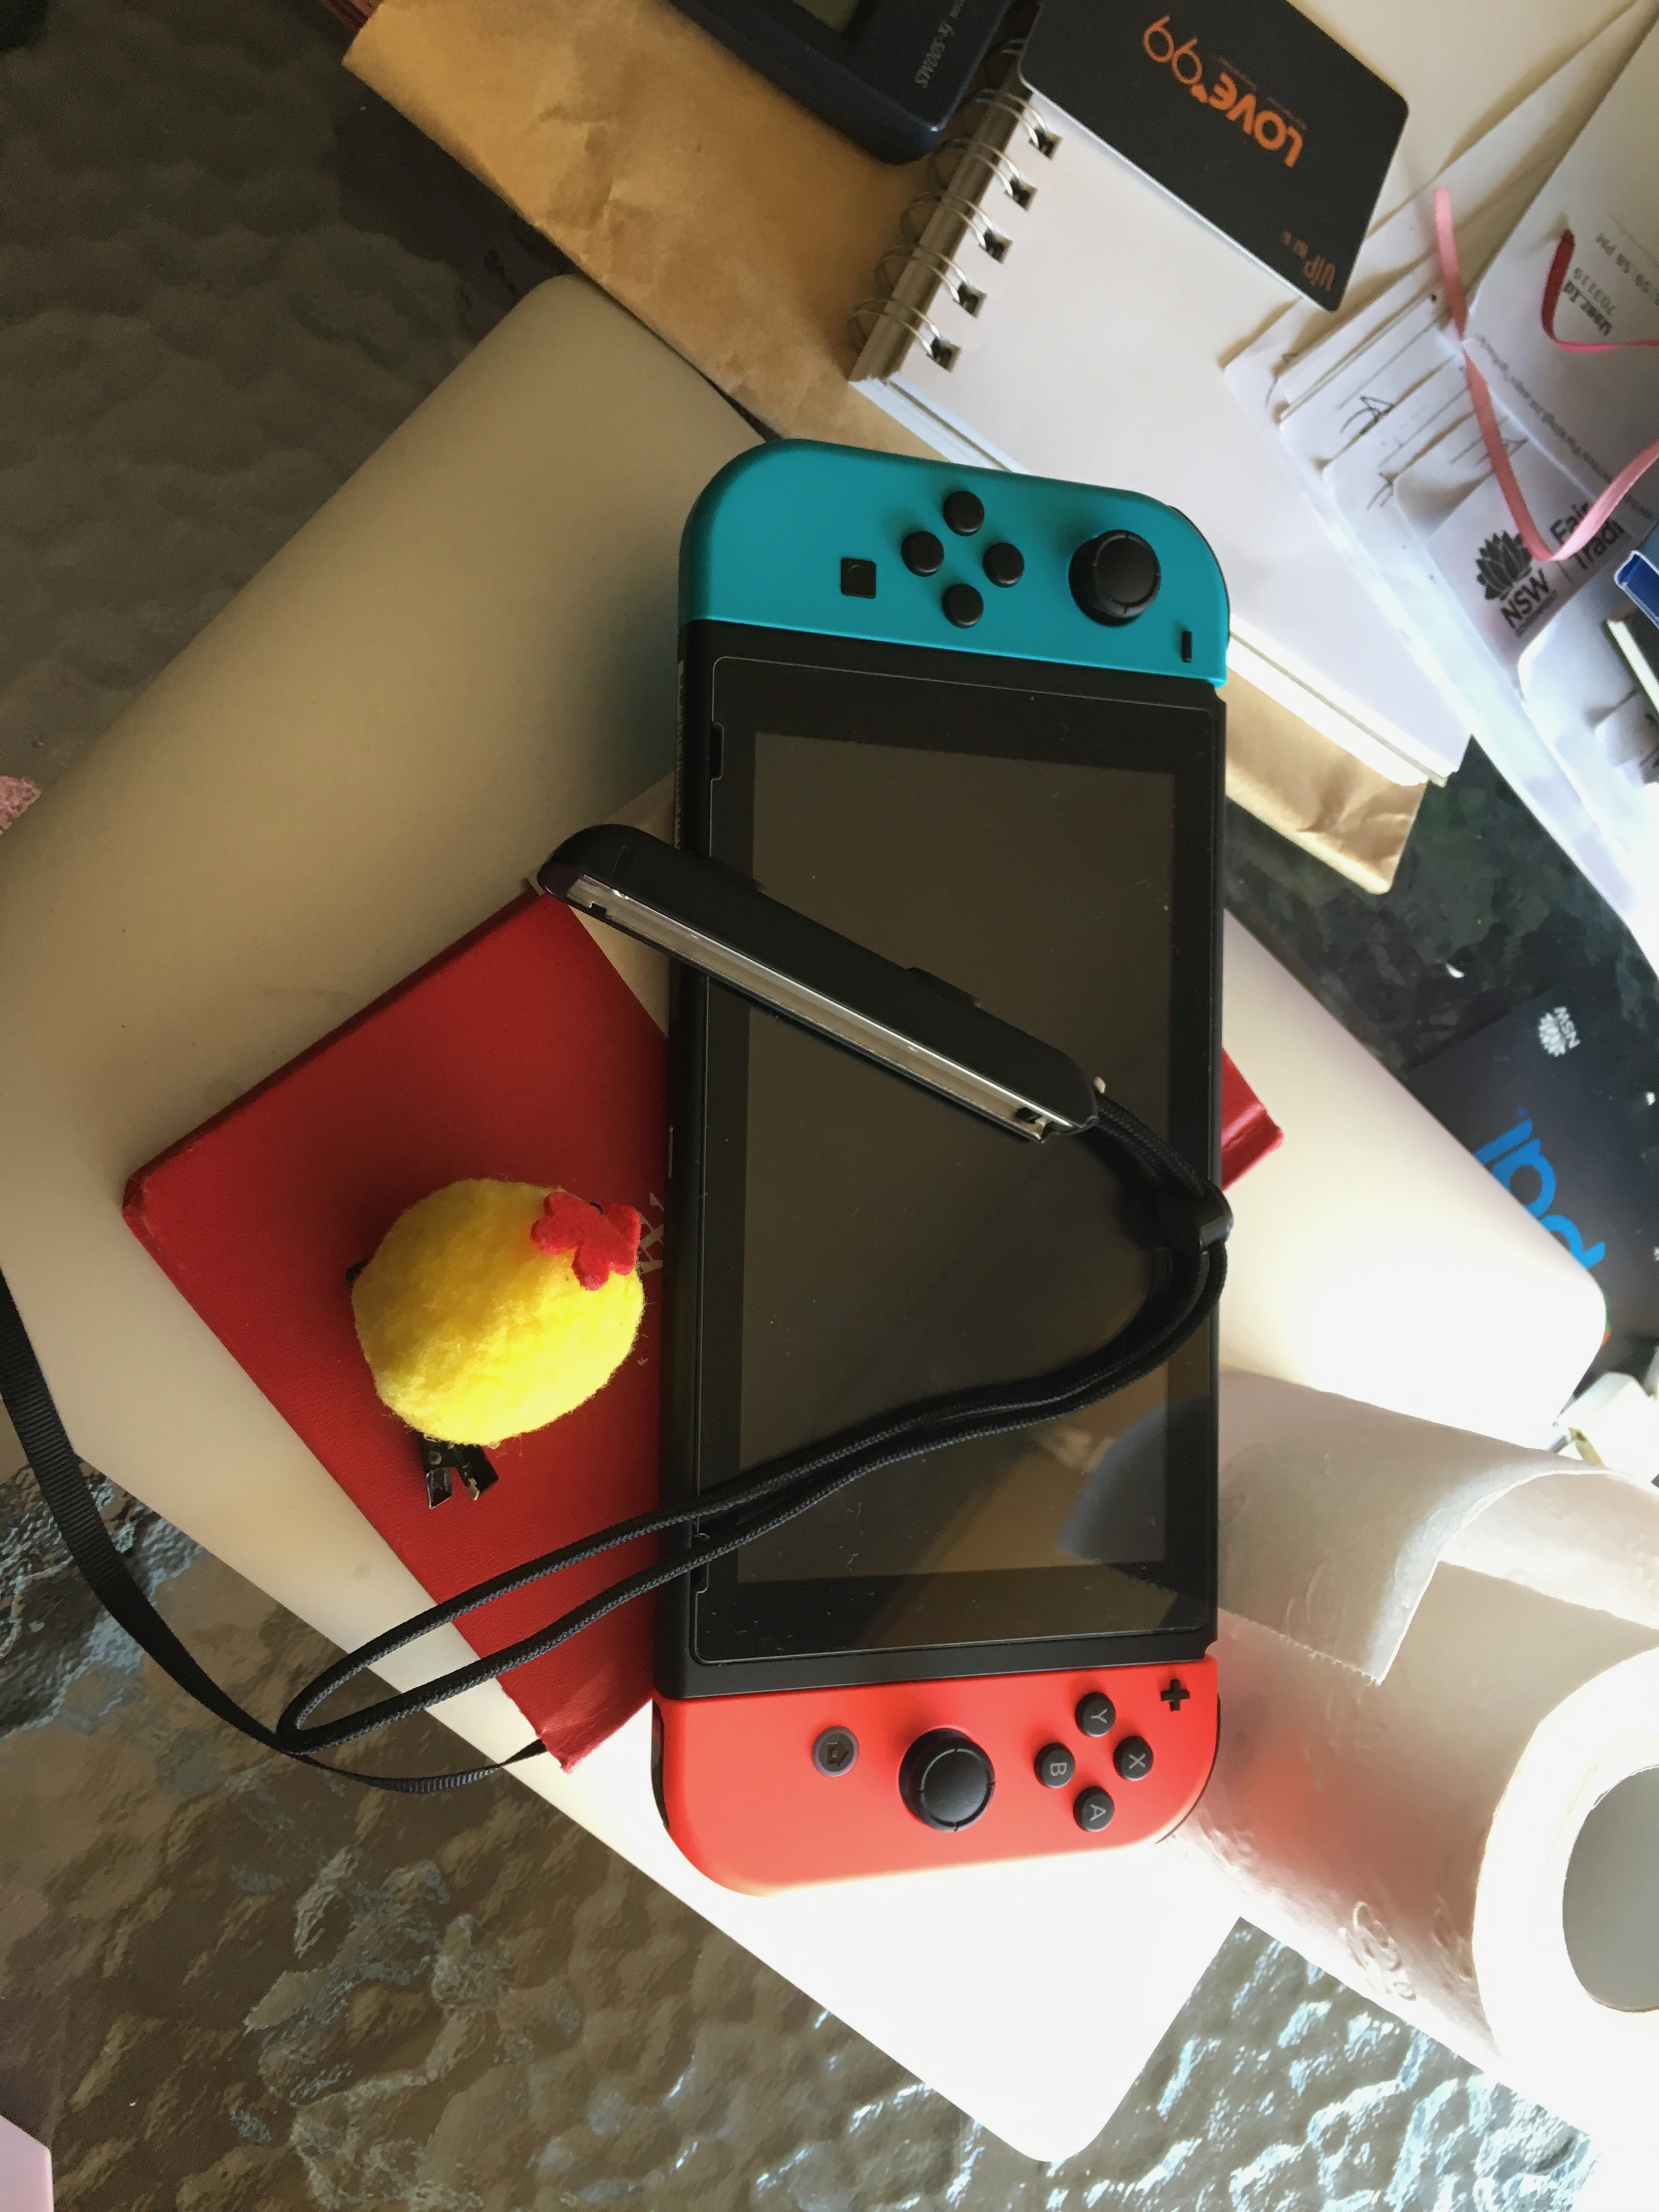NintendoSwitch: (620, 420, 1253, 1909)
